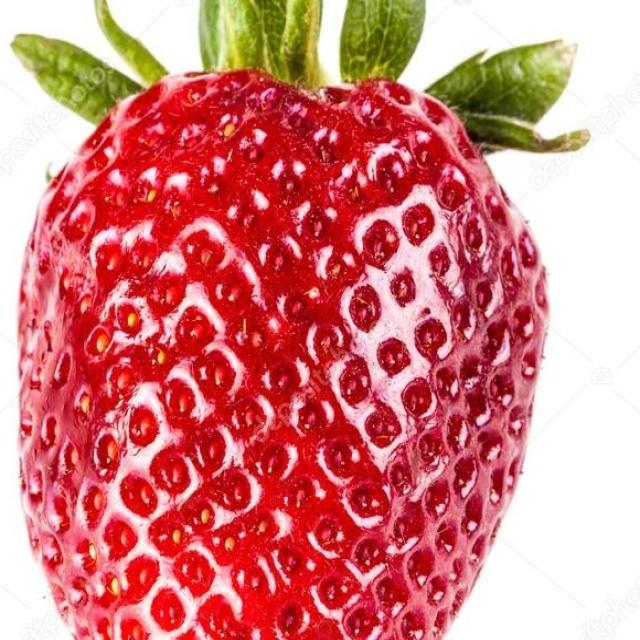strawberry: (0, 0, 555, 640)
